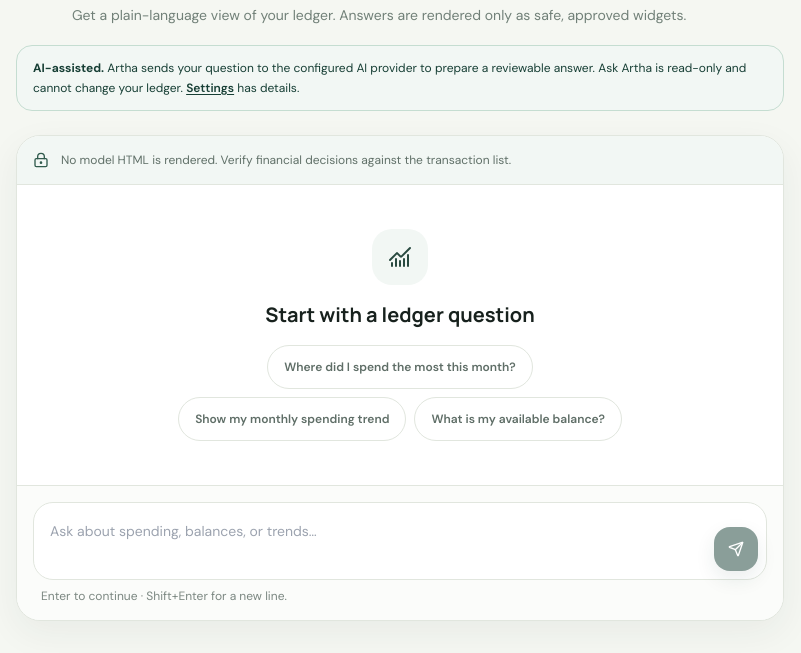
Test case: AssistantPage generated UI › renders generated chart data as an accessible table
Type "Show my monthly spending trend" into the text box named "Ask Artha" at (374, 541), box [42,511,706,571]
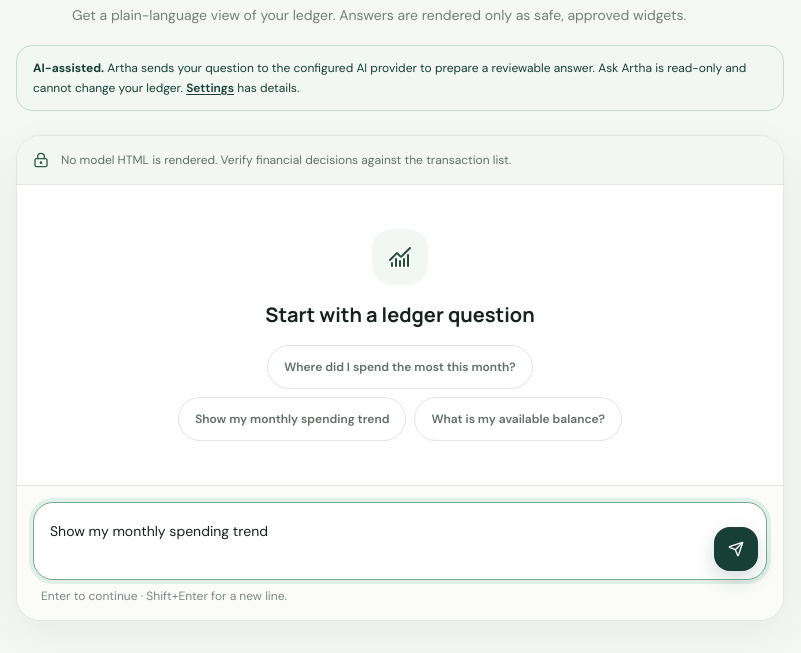
Click the button named "Send question" at (736, 549), box [714,527,758,571]
(page scrolled)
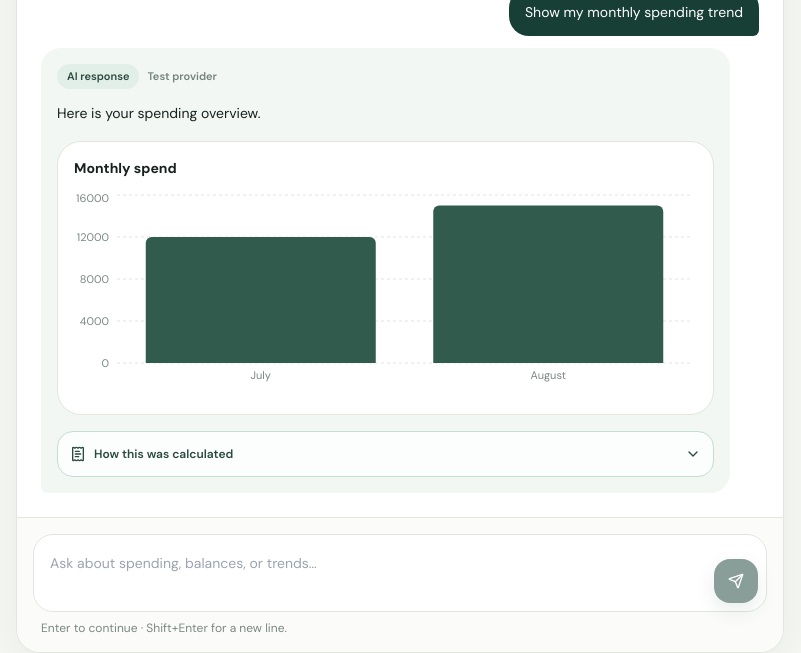
Check: the text "Here is your spending overview." is shown, box [57,104,260,122]
Check: the column heading "August" is shown, box [73,472,160,498]
Check: the cell "15000" is shown, box [160,472,234,498]
